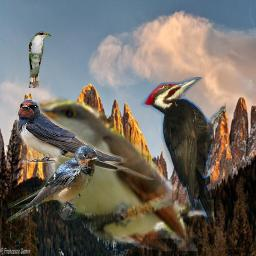Cuckoo: (16, 87, 214, 251), (28, 31, 51, 88)
Swallow: (16, 97, 155, 180), (6, 145, 100, 224)
Woodpecker: (140, 77, 226, 223)
